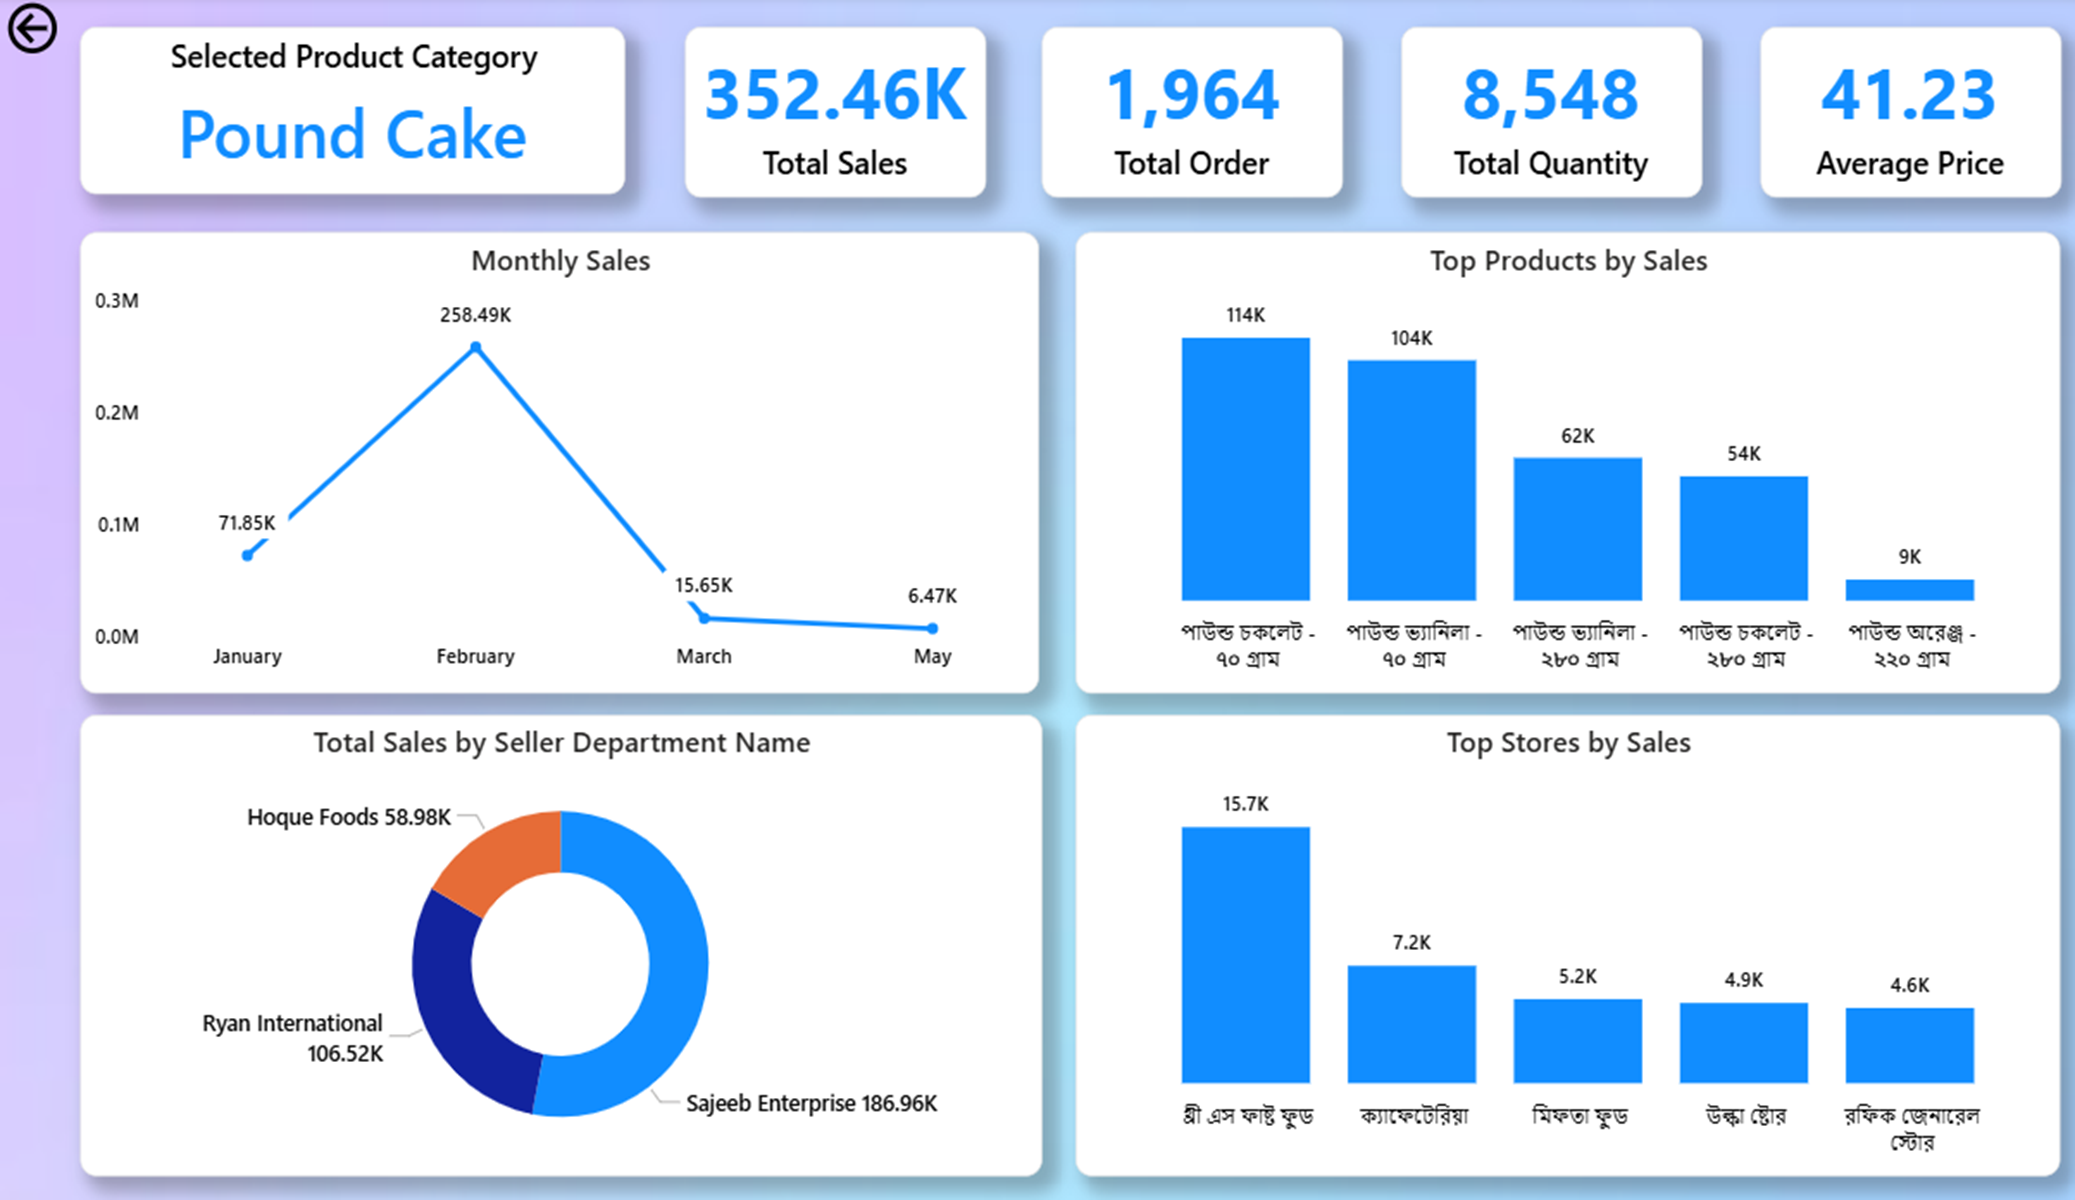

This screenshot's page, from the dashboard's own definition file:
{"tool":"powerbi","page":{"name":"Specific Product","canvas":[1280,720],"ordinal":3},"visuals":[{"type":"card","fields":{"Values":["_measures.Total Sales"]},"box":[420.8,18.3,185,101.7],"z":0},{"type":"card","fields":{"Values":["_measures.Order Count"]},"box":[641.6,18.3,185,101.7],"z":1000},{"type":"card","fields":{"Values":["_measures.Total Quantity"]},"box":[862.5,18.3,185,101.7],"z":2000},{"type":"card","fields":{"Values":["_measures.Average Price"]},"box":[1083.3,18.3,185,101.7],"z":3000},{"type":"card","title":"Selected Product Category","fields":{"Values":["DimProduct.Product Category Name"]},"box":[49.3,19.1,335.6,100.2],"z":4000},{"type":"lineChart","title":"Monthly Sales ","fields":{"Y":["_measures.Total Sales"],"Category":["FactOrders.Month Name"]},"box":[49.3,141.6,590.1,275.2],"z":5000},{"type":"columnChart","title":"Top Products by Sales","fields":{"Category":["DimProduct.Product Name"],"Y":["_measures.Total Sales"]},"box":[661.7,141.6,606,275.2],"z":6000},{"type":"columnChart","title":"Top Stores by Sales","fields":{"Category":["DimStore.Store Name"],"Y":["_measures.Total Sales"]},"box":[661.7,429.5,606,275.2],"z":7000},{"type":"donutChart","fields":{"Category":["DimSellerDept.Seller Department Name"],"Y":["_measures.Total Sales"]},"box":[50,430,591.7,275],"z":8000},{"type":"actionButton","box":[0,0,100,40],"z":9000}]}

Visuals, with their boxes on the page's 1280x720 design canvas (x1, y1, x2, y2). These are canvas units, not pixel positions in the 2075x1200 screenshot, which may show the page scaled, cropped or inside an application window:
card - _measures.Total Sales: BBox(421, 18, 606, 120)
card - _measures.Order Count: BBox(642, 18, 827, 120)
card - _measures.Total Quantity: BBox(862, 18, 1048, 120)
card - _measures.Average Price: BBox(1083, 18, 1268, 120)
"Selected Product Category" card: BBox(49, 19, 385, 119)
"Monthly Sales " lineChart: BBox(49, 142, 639, 417)
"Top Products by Sales" columnChart: BBox(662, 142, 1268, 417)
"Top Stores by Sales" columnChart: BBox(662, 430, 1268, 705)
donutChart - DimSellerDept.Seller Department Name x _measures.Total Sales: BBox(50, 430, 642, 705)
actionButton: BBox(0, 0, 100, 40)
